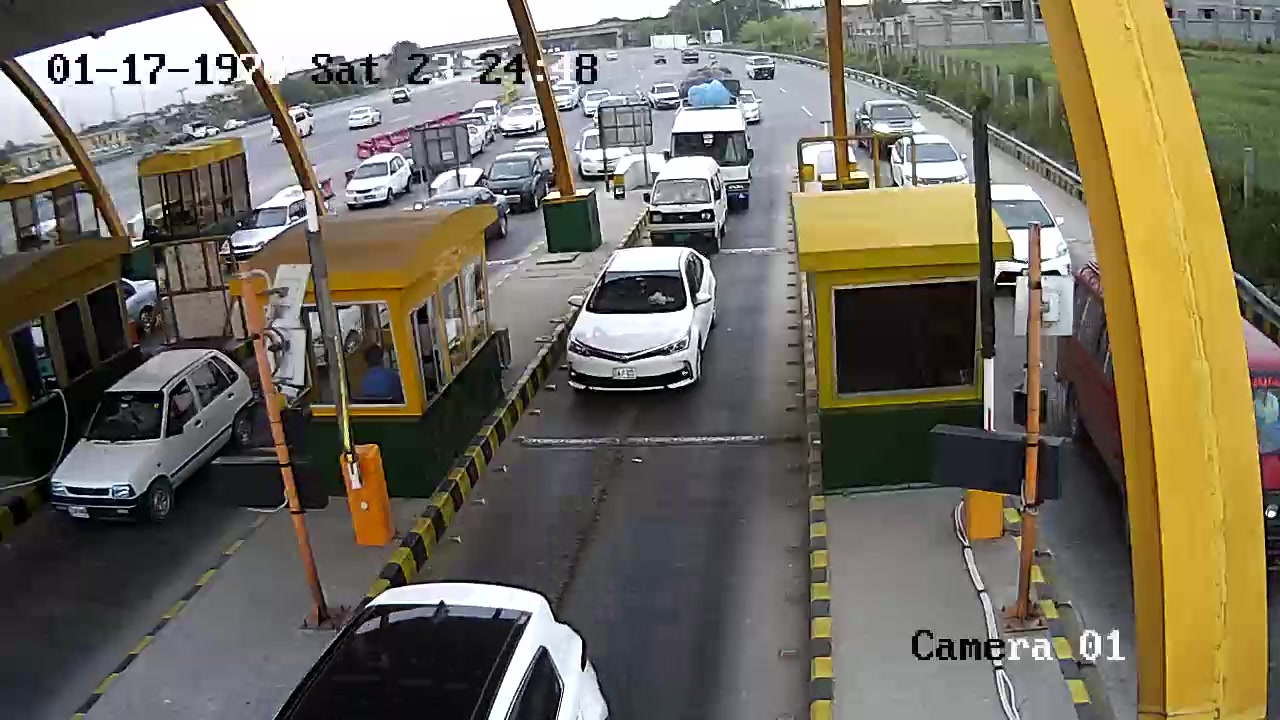F1: (567, 247, 740, 406)
